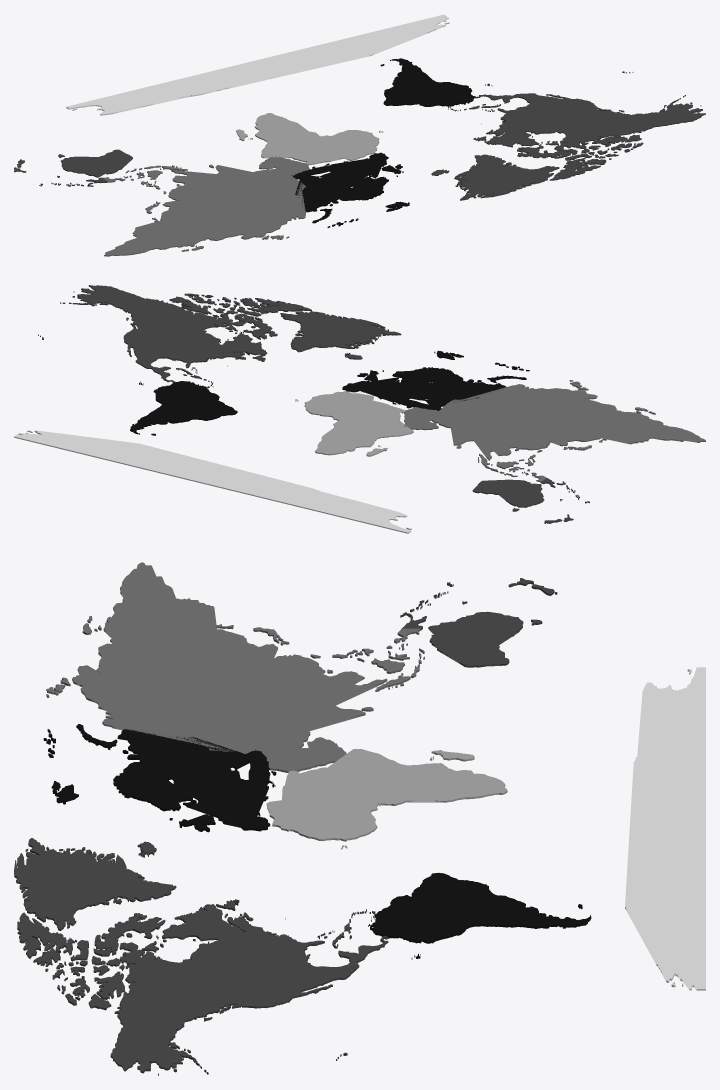
Rendered from Continents_3D.fbx.
3 views of the same model, one above another, from view 1: azimuth 30°, elevation 25°; view 2: azimuth 150°, elevation 25°; view 3: azimuth 270°, elevation 25° (orthographic). The views are drawn at different scales.
Visible parts, largest first — view 1: North_America_Continent_3D, Asia_Continent_3D, Antarctica_Continent_3D, Africa_Continent_3D, Europe_Continent_3D, South_America_Continent_3D, Australia_Continent_3D; view 2: North_America_Continent_3D, Asia_Continent_3D, Antarctica_Continent_3D, Africa_Continent_3D, Europe_Continent_3D, South_America_Continent_3D, Australia_Continent_3D; view 3: Asia_Continent_3D, North_America_Continent_3D, Antarctica_Continent_3D, Africa_Continent_3D, Europe_Continent_3D, South_America_Continent_3D, Australia_Continent_3D.
Boxes of the visible parts, <box> form: North_America_Continent_3D: <box>431,71,705,200</box>; Asia_Continent_3D: <box>103,155,309,256</box>; Antarctica_Continent_3D: <box>66,14,449,115</box>; Africa_Continent_3D: <box>236,113,383,165</box>; Europe_Continent_3D: <box>292,152,409,227</box>; South_America_Continent_3D: <box>380,58,492,106</box>; Australia_Continent_3D: <box>14,149,132,186</box>; North_America_Continent_3D: <box>38,285,401,388</box>; Asia_Continent_3D: <box>404,380,705,482</box>; Antarctica_Continent_3D: <box>14,430,411,533</box>; Africa_Continent_3D: <box>295,391,413,456</box>; Europe_Continent_3D: <box>342,350,529,411</box>; South_America_Continent_3D: <box>130,381,237,435</box>; Australia_Continent_3D: <box>472,478,589,523</box>; Asia_Continent_3D: <box>46,562,424,772</box>; North_America_Continent_3D: <box>14,838,388,1075</box>; Antarctica_Continent_3D: <box>625,667,705,990</box>; Africa_Continent_3D: <box>266,749,507,849</box>; Europe_Continent_3D: <box>43,724,276,832</box>; South_America_Continent_3D: <box>368,872,591,959</box>; Australia_Continent_3D: <box>400,578,557,667</box>.
Size of the model in its own units: 6115 by 10.89 by 3494.
